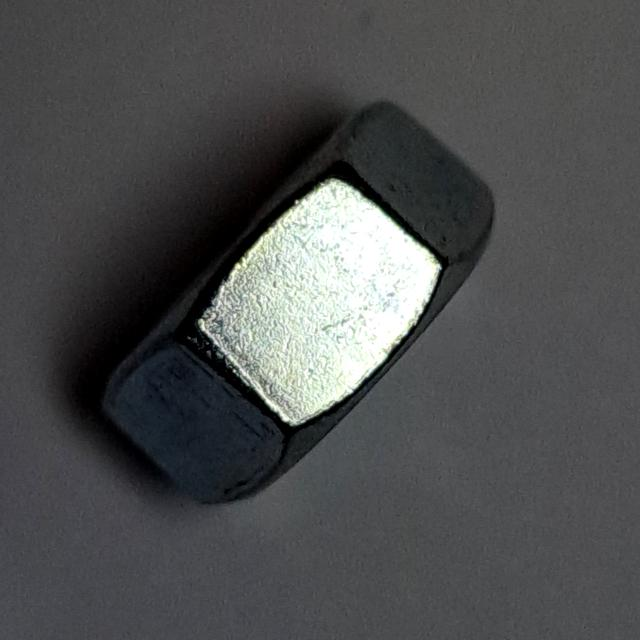Side_Excellent: (89, 85, 519, 519)
